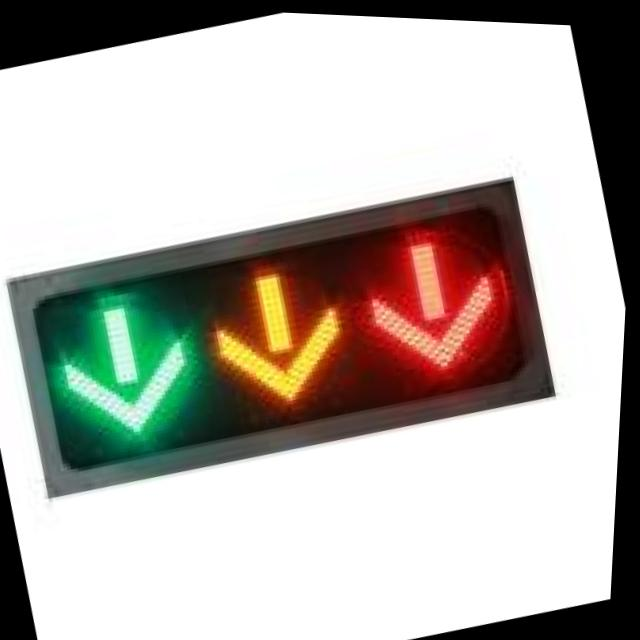green_light: (12, 230, 232, 488)
red_light: (320, 173, 552, 455)
yellow_light: (188, 233, 375, 449)
